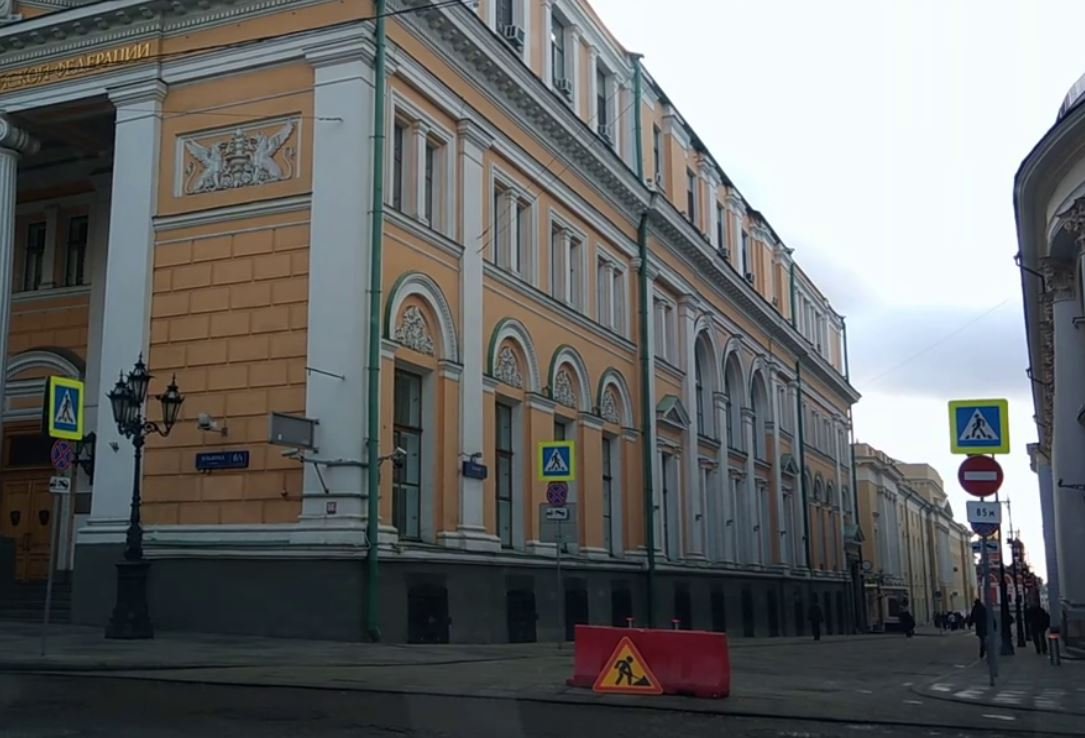Yaya Gecidi: (954, 403, 1002, 446), (55, 386, 80, 432), (543, 446, 570, 475)
